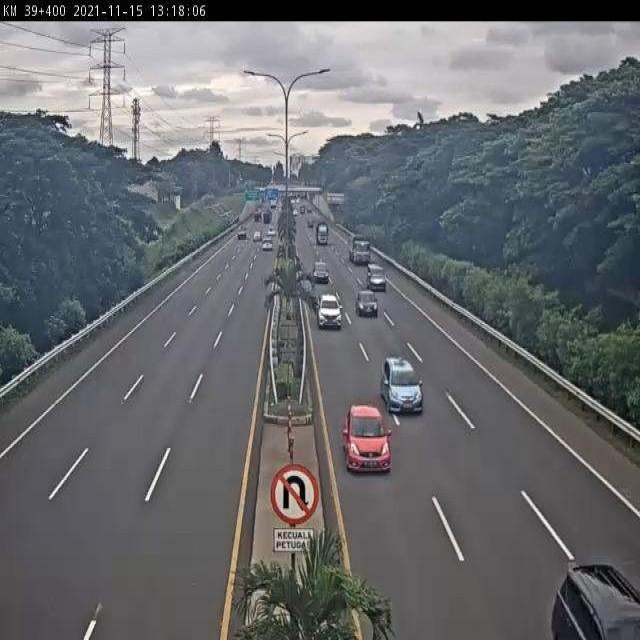car: (342, 403, 393, 476), (381, 354, 425, 414), (318, 293, 343, 327), (355, 288, 380, 317)
